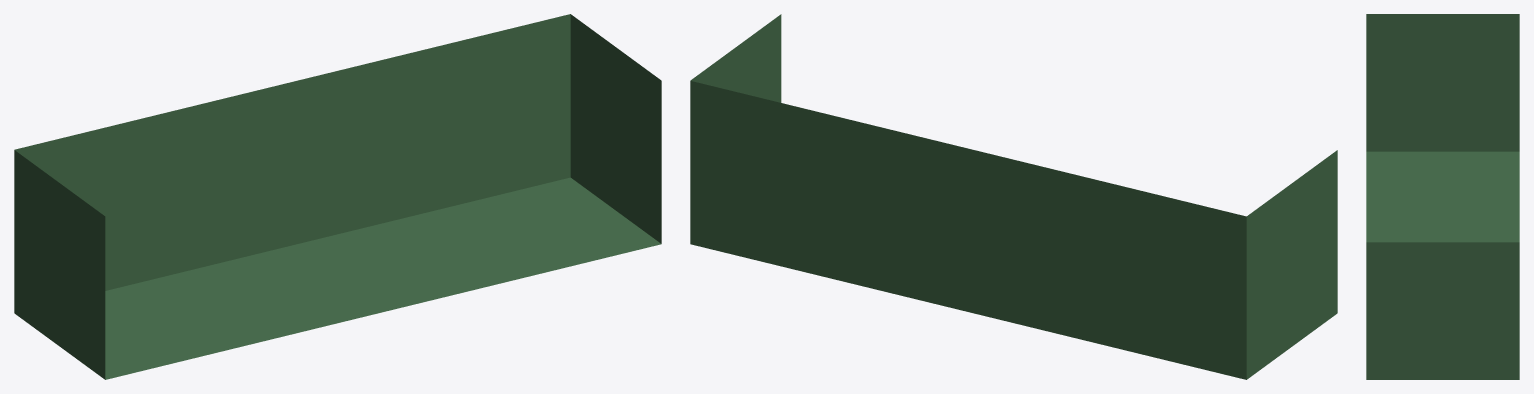
The model's file is balcony-type-a.obj.
3 renders of one model, left to right at view 1: azimuth 30°, elevation 25°; view 2: azimuth 150°, elevation 25°; view 3: azimuth 270°, elevation 25°, orthographic. The views are drawn at different scales.
Bounding box in the file's own units: 1 × 0.2808 × 0.2837.
